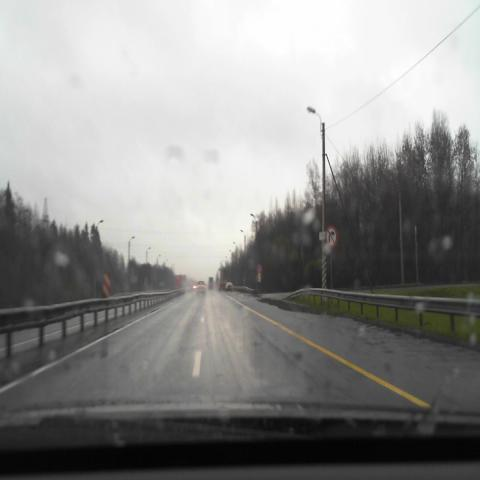3_18: (325, 225, 338, 248)
